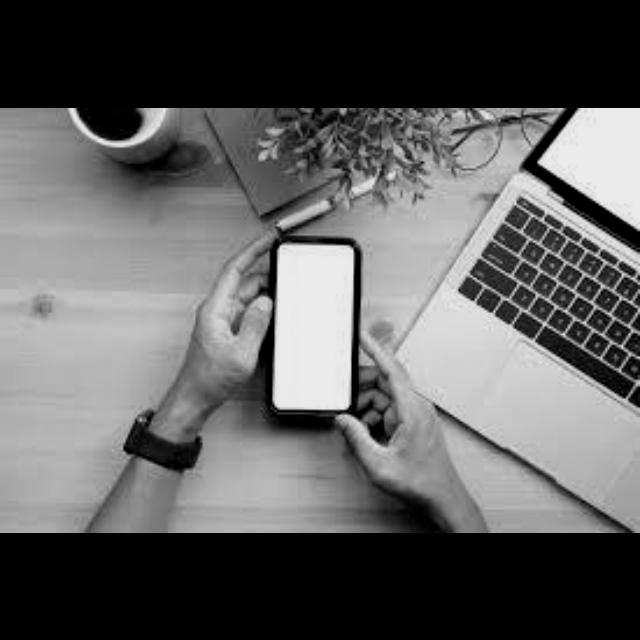fake: (268, 229, 362, 427)
